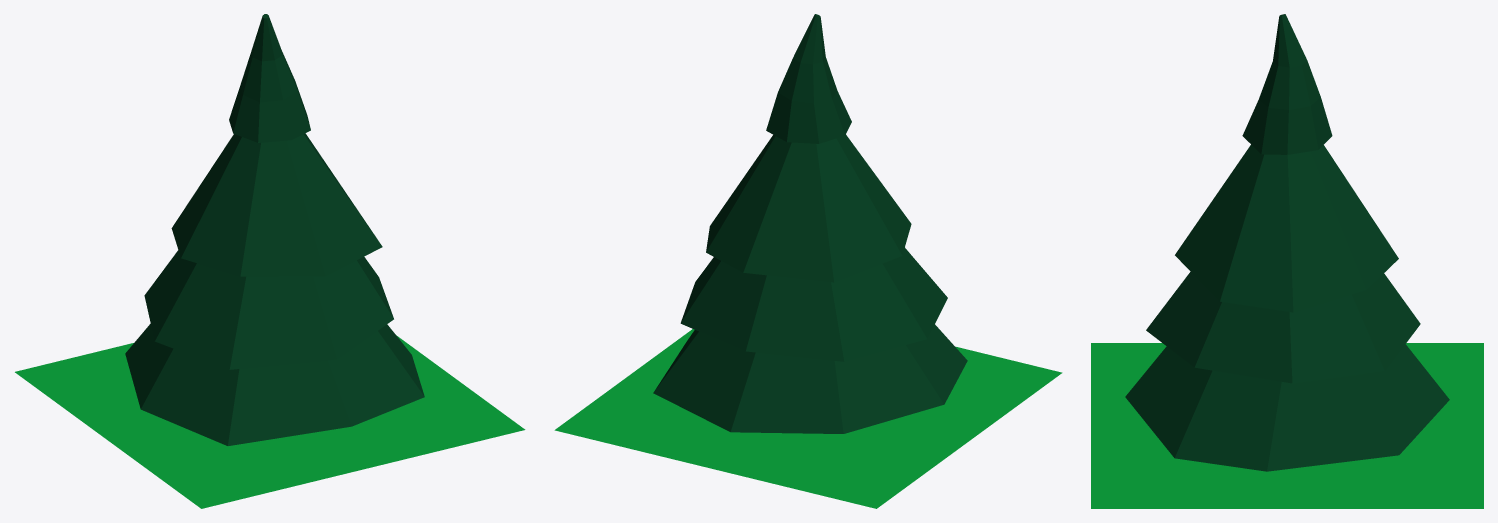
File: Tree1.fbx
The picture shows the model from 3 angles, left to right: view 1: azimuth 30°, elevation 25°; view 2: azimuth 150°, elevation 25°; view 3: azimuth 270°, elevation 25°; orthographic projection. The views are drawn at different scales.
Visible parts, largest first — view 1: Plane; view 2: Plane; view 3: Plane.
Boxes of the visible parts, x1,y1,x2,y2 form: Plane: [15, 14, 525, 508]; Plane: [554, 14, 1062, 508]; Plane: [1091, 14, 1483, 508].
Bounding box in the file's own units: 100 × 115 × 100.
